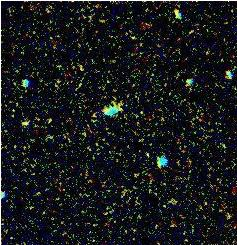star: (87, 97, 117, 127)
